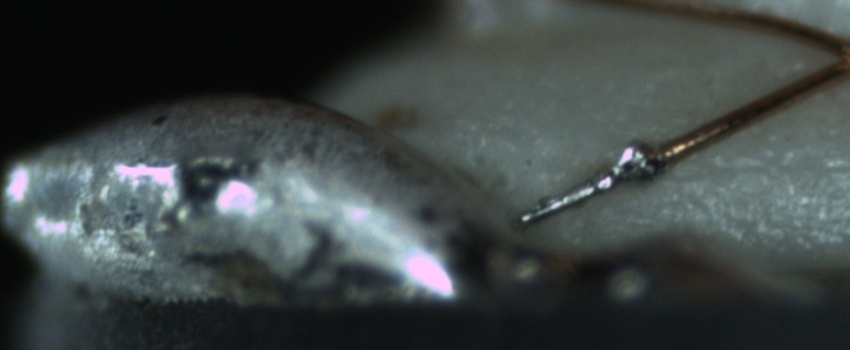CL: (807, 25, 850, 89)
DL: (678, 134, 849, 198)
TB: (601, 139, 663, 192)
TS: (514, 147, 670, 232)
TTCW: (517, 126, 707, 228)
